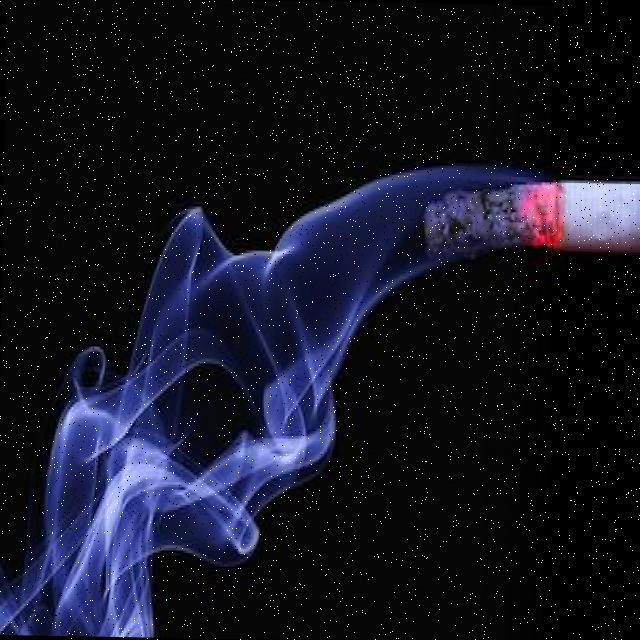cigarette: (425, 170, 640, 258)
